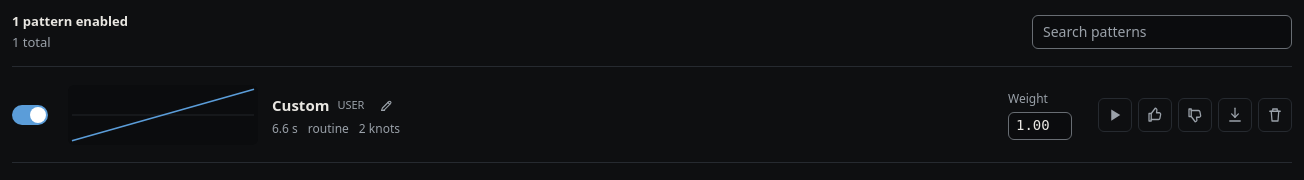
pattern library components › renders a backend-normalized weight after a successful patch
This screenshot has width=1304, height=180.
Replace the text in the number field labelled "Weight" with "2" at coordinates (1040, 126), box top-left (1008, 112), bottom-right (1072, 140)
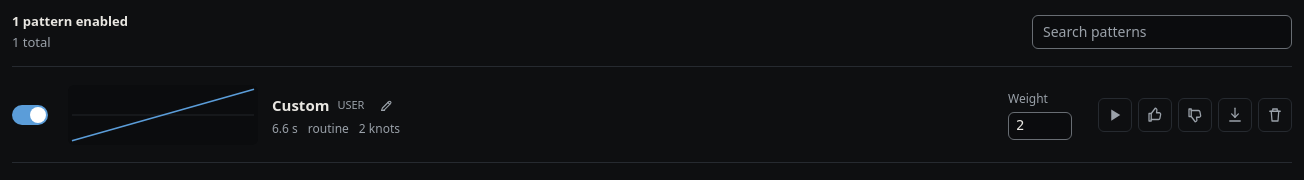
Leave the number field labelled "Weight", box top-left (1008, 112), bottom-right (1072, 140)
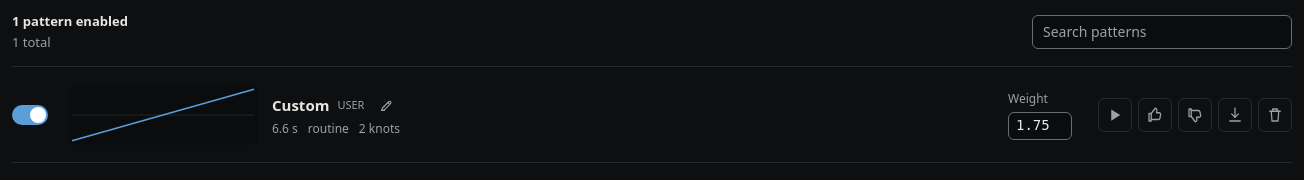
Expected: the number field labelled "Weight" holds "1.75", top-left (1008, 112), bottom-right (1072, 140)
